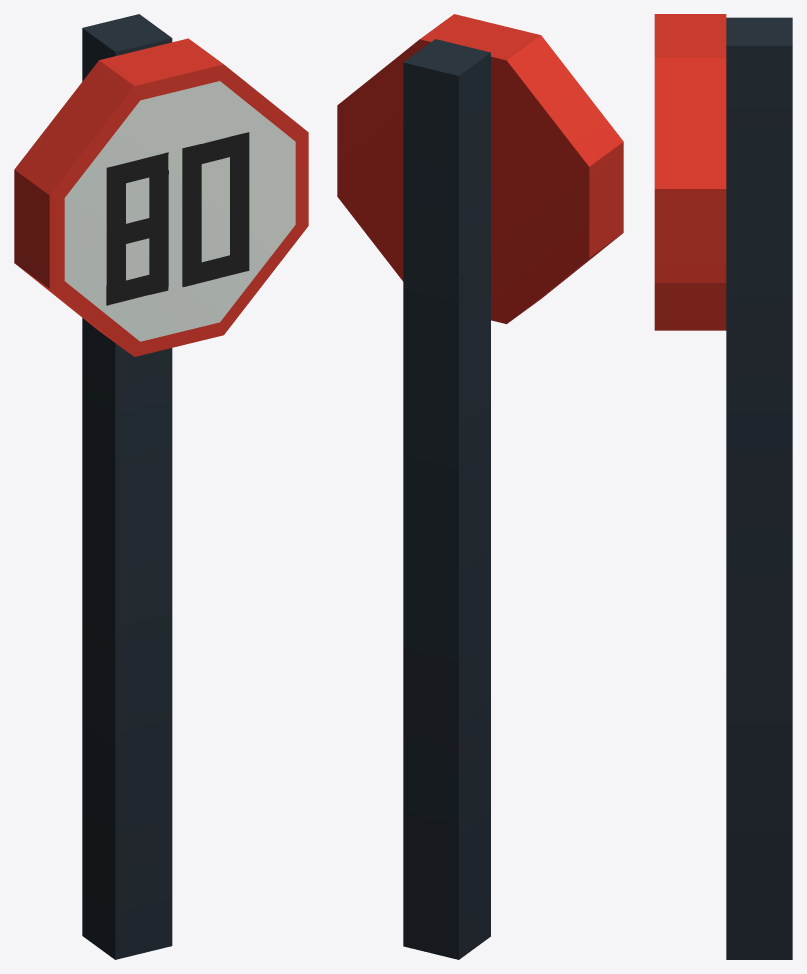
File: Road_sign_max_Speed_80.fbx
3 views of the same model, side by side, from view 1: azimuth 30°, elevation 25°; view 2: azimuth 150°, elevation 25°; view 3: azimuth 270°, elevation 25° (orthographic). The views are drawn at different scales.
Parts seen in each view (by area): view 1: Road_sign_max_Speed_80; view 2: Road_sign_max_Speed_80; view 3: Road_sign_max_Speed_80.
Boxes of the visible parts, x1=… form: Road_sign_max_Speed_80: x1=14, y1=14, x2=308, y2=959; Road_sign_max_Speed_80: x1=337, y1=14, x2=623, y2=959; Road_sign_max_Speed_80: x1=654, y1=14, x2=792, y2=959.
Size of the model in its own units: 107 by 359 by 49.94.
